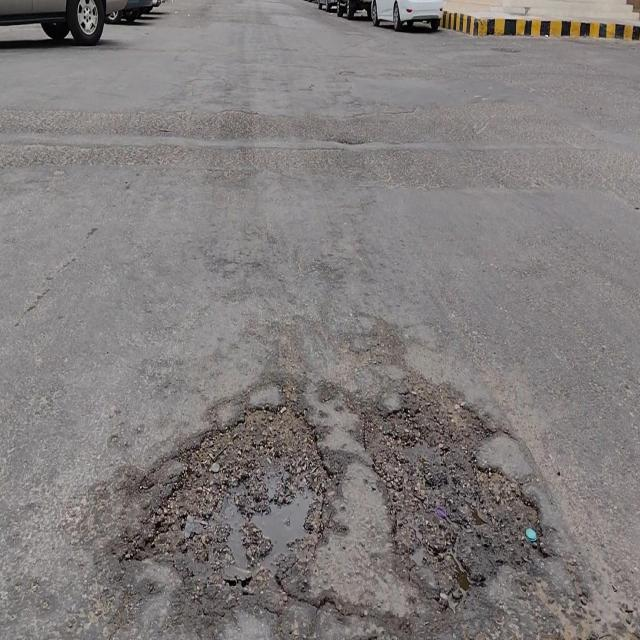Potholes: (360, 380, 546, 597), (151, 410, 332, 602)
